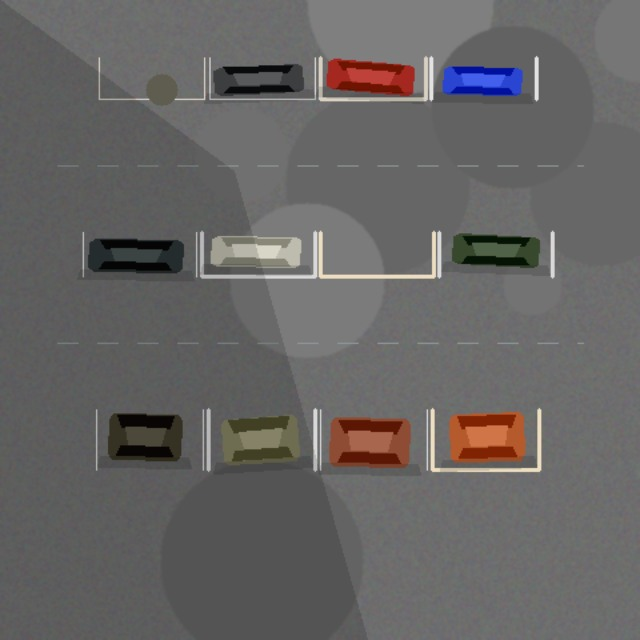space-empty: (320, 232, 433, 276), (99, 57, 204, 99)
space-occupied: (96, 409, 203, 469), (208, 409, 315, 469), (320, 409, 427, 469), (432, 409, 539, 469), (201, 232, 315, 276), (83, 232, 196, 276), (439, 232, 552, 276), (209, 57, 315, 99), (320, 57, 425, 99), (431, 57, 536, 99)
